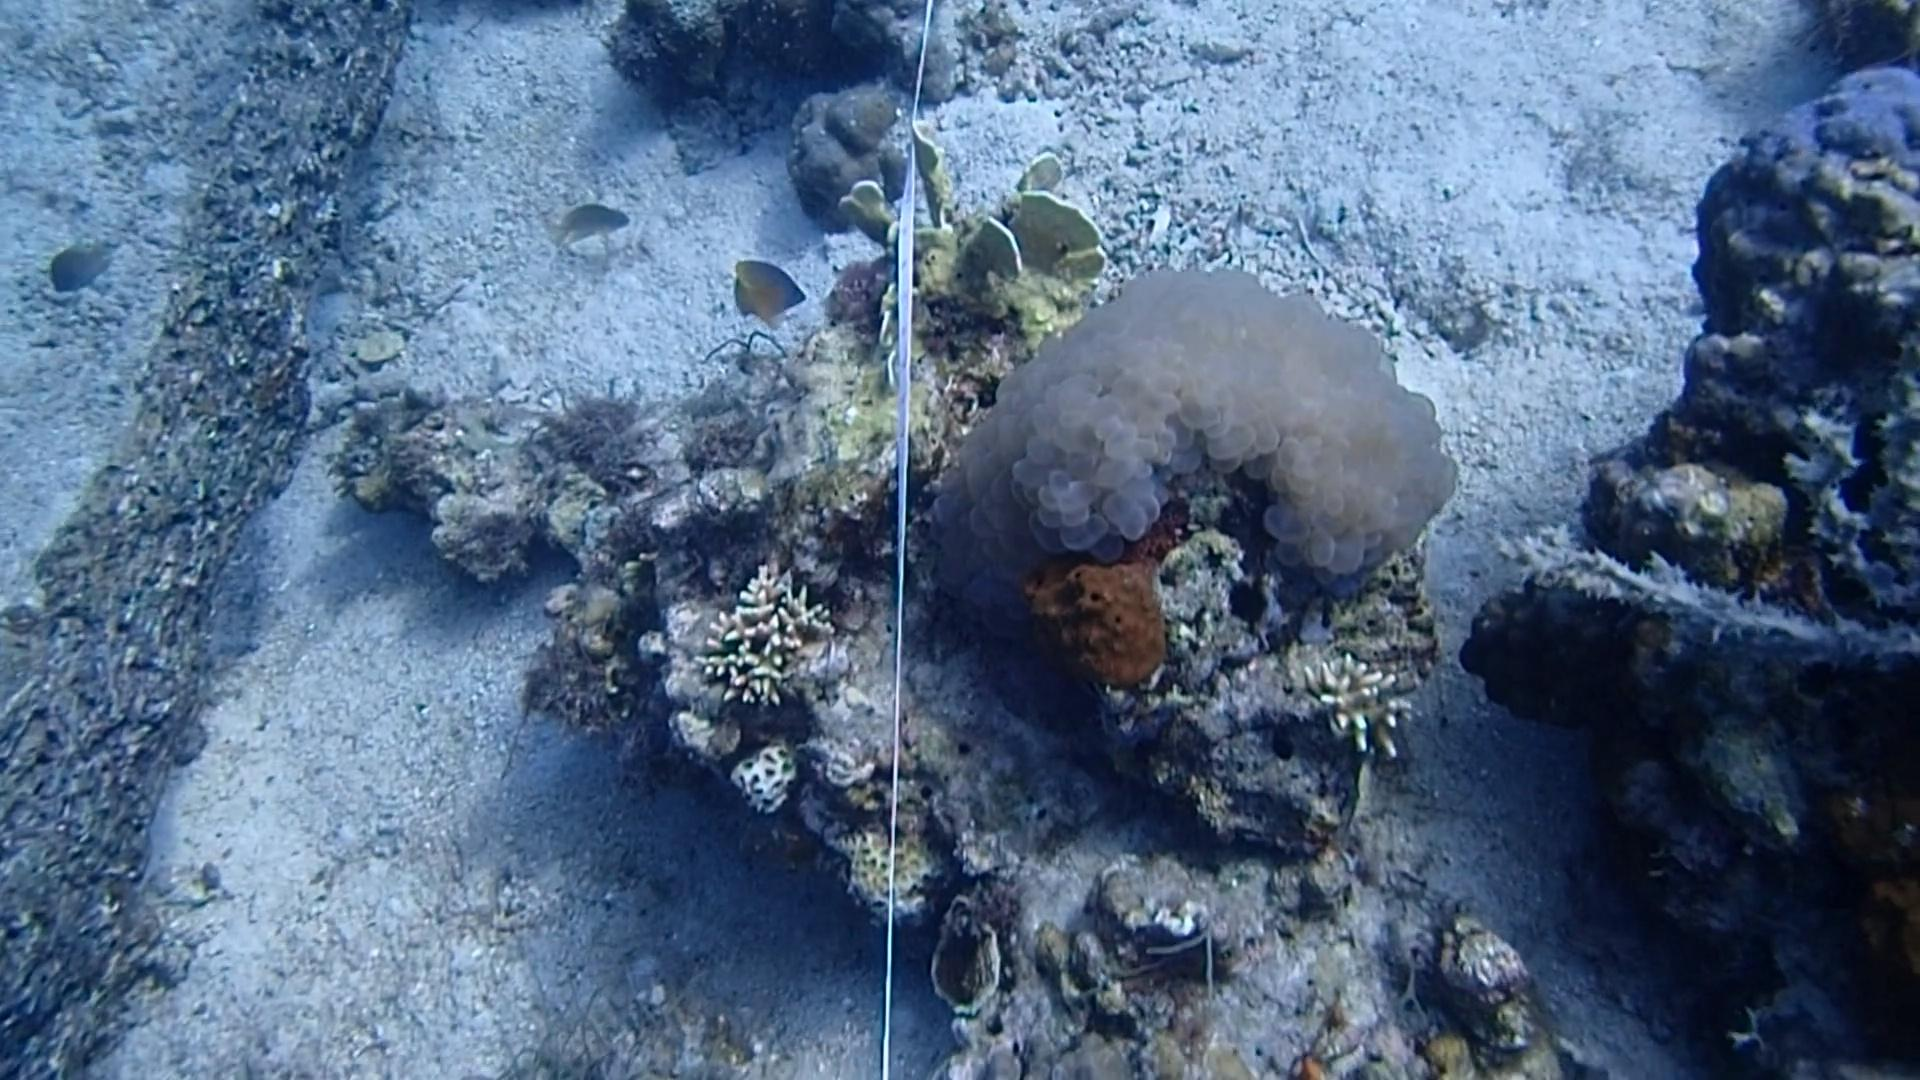Light Fish: (546, 191, 637, 261), (36, 237, 123, 306)
Yellow-Blue Fish: (728, 249, 816, 332)
